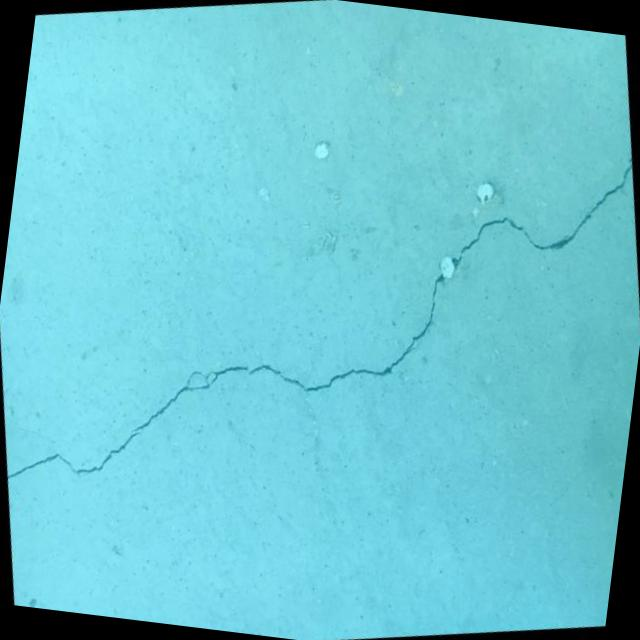crack: (0, 81, 640, 552), (1, 396, 60, 451)
